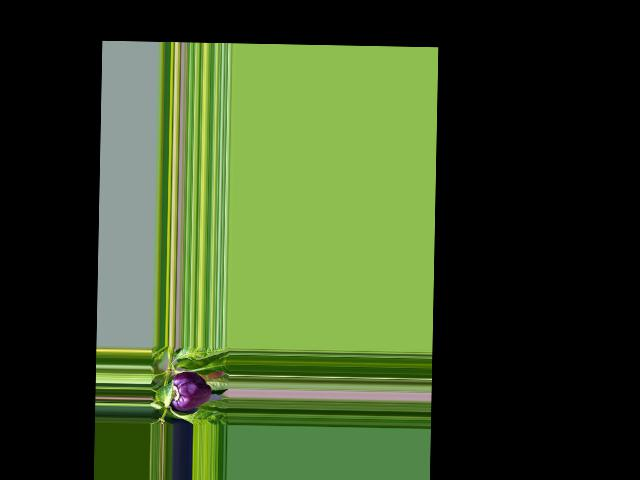bell_pepper: (166, 370, 213, 411)
